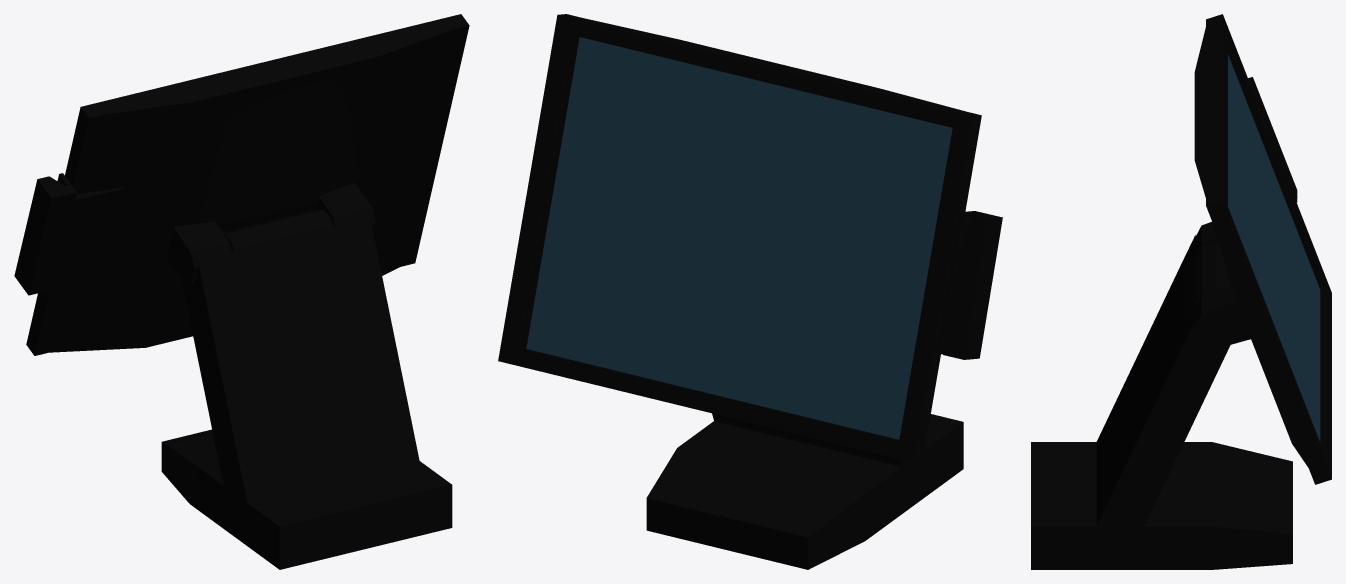
File: Monitor.fbx
3 renders of one model, left to right at view 1: azimuth 30°, elevation 25°; view 2: azimuth 150°, elevation 25°; view 3: azimuth 270°, elevation 25°, orthographic. The views are drawn at different scales.
Visible parts, largest first — view 1: Monitor; view 2: Monitor; view 3: Monitor.
Boxes of the visible parts, x1=… form: Monitor: x1=14, y1=14, x2=469, y2=569; Monitor: x1=498, y1=14, x2=1002, y2=569; Monitor: x1=1031, y1=14, x2=1331, y2=569.
Bounding box in the file's own units: 52.41 × 51.14 × 33.17.
